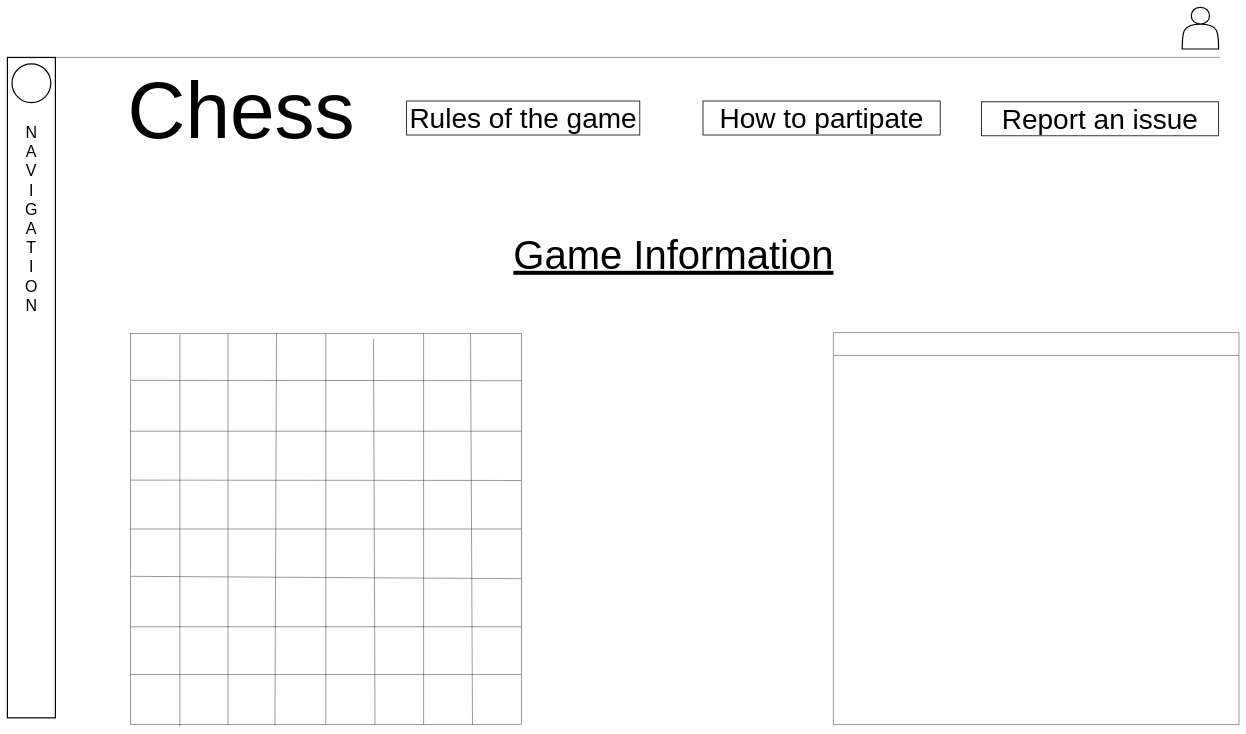
The diagram is 1246 pixels wide and 734 high, and some of its shapes have lost their labels. The centre of each missing label's shape, as x and y in pixels:
LEADERBOARD: the point at 1036,528
MH: the point at 31,83
